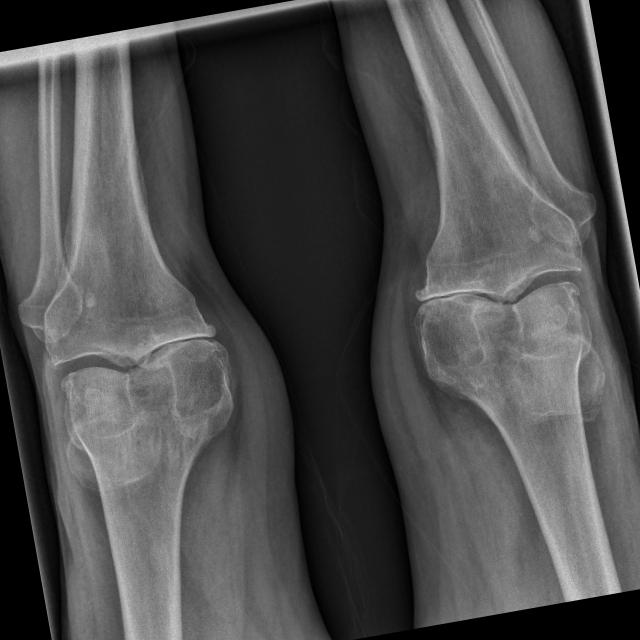Knee: (32, 258, 246, 470), (399, 188, 606, 404)
